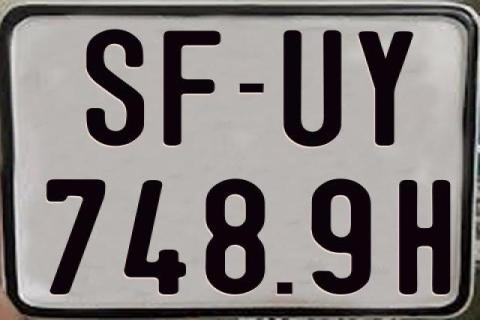0: (46, 179, 112, 296), (310, 178, 375, 296), (202, 177, 266, 293), (124, 178, 186, 294)
F: (161, 30, 224, 146)
H: (396, 178, 452, 296)
S: (83, 27, 142, 145)
U: (281, 29, 342, 145)
Y: (357, 29, 416, 143)
